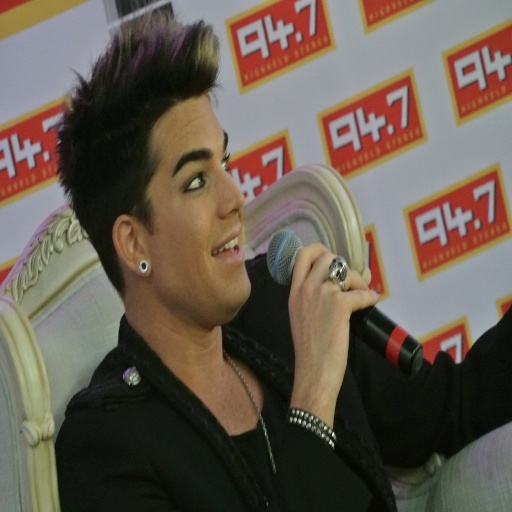hand: (287, 234, 368, 446)
